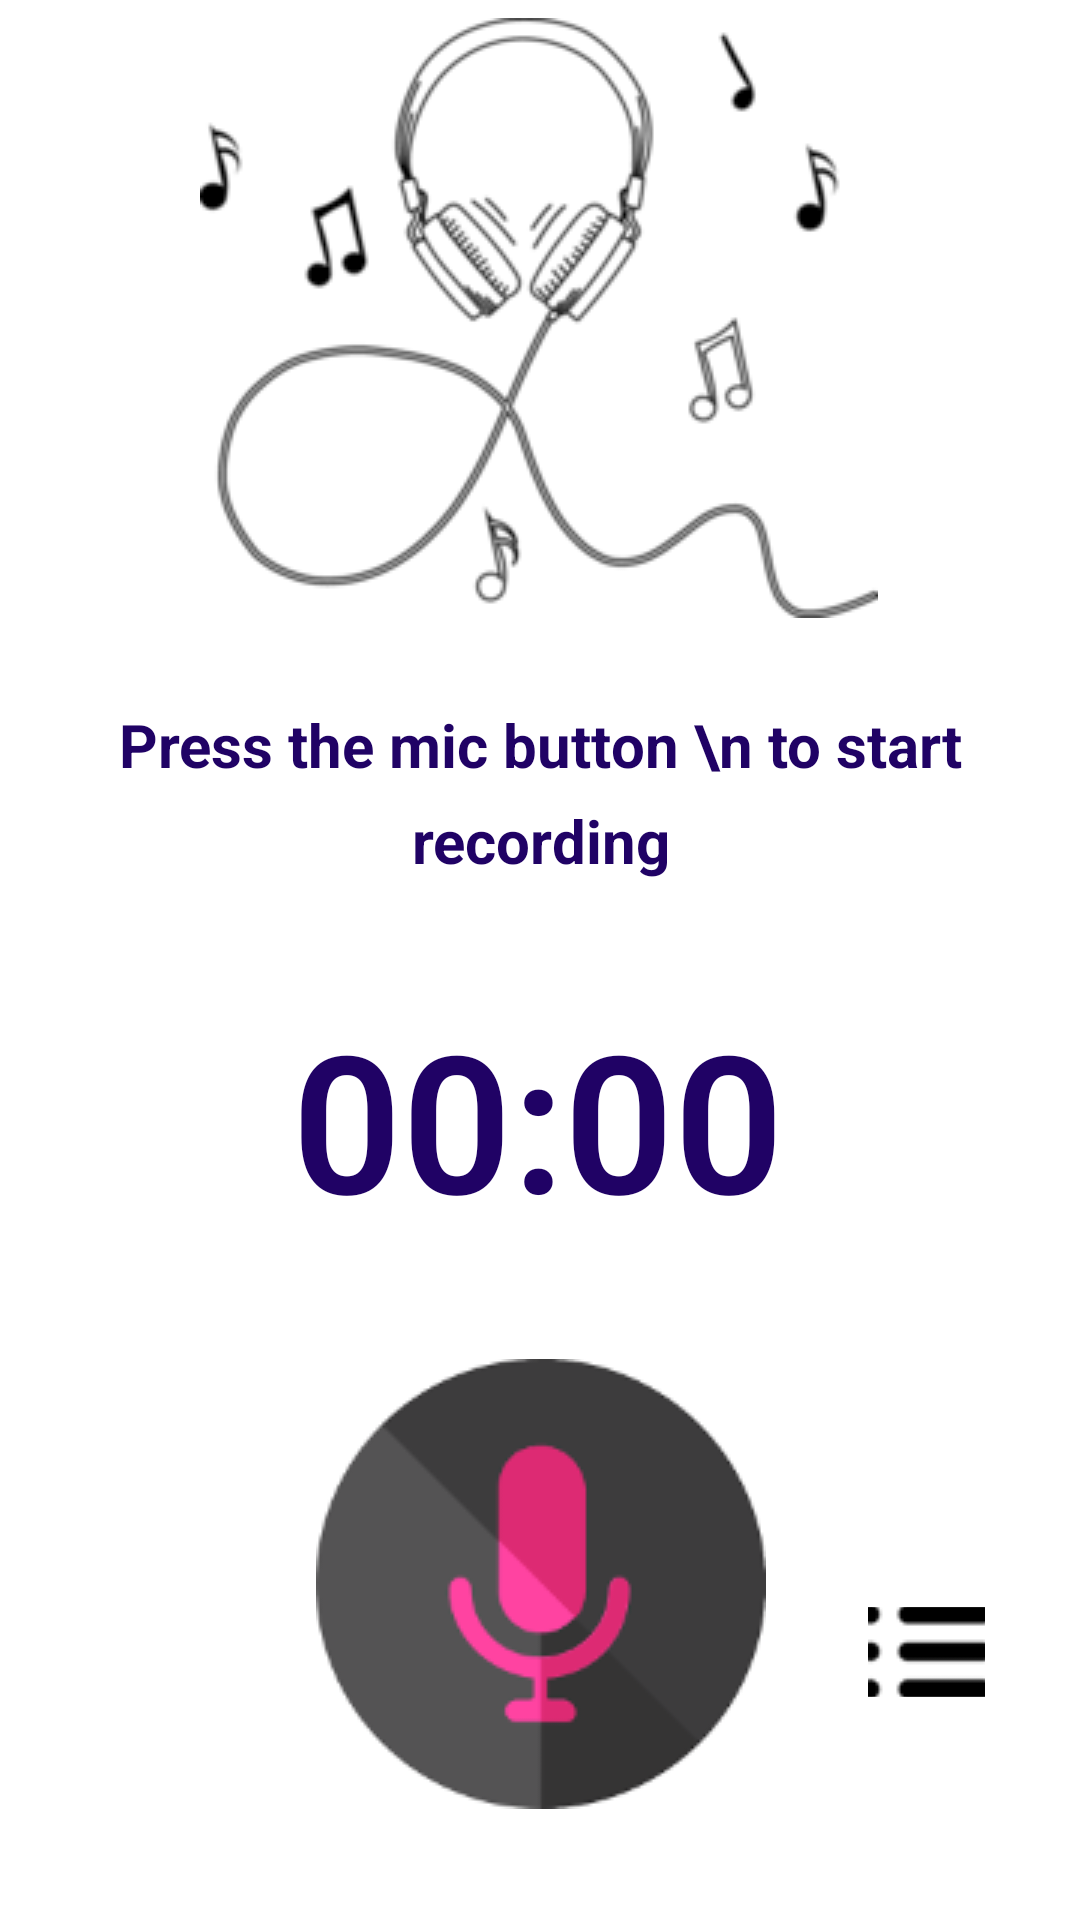

Icons on this 1080 × 1920 Android screen, each with its box as (x1, y1, x2, y2):
listtss: (868, 1607, 985, 1697)
